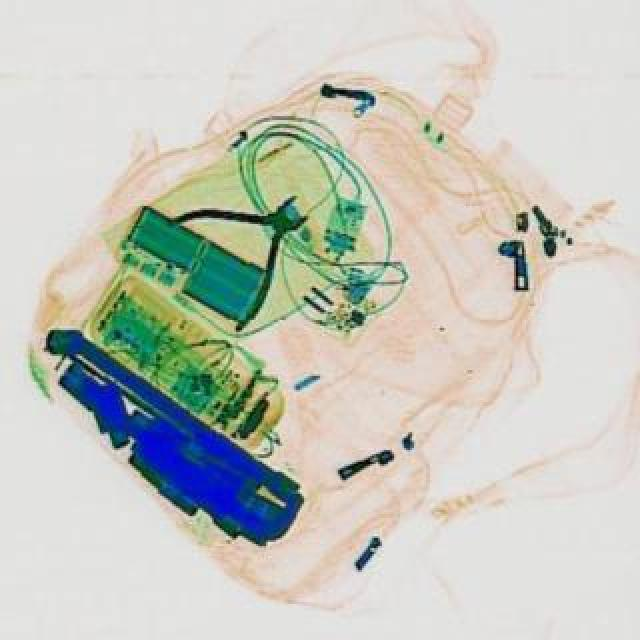wrench: (158, 162, 350, 338)
